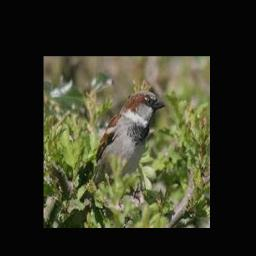Sparrow: (90, 90, 166, 186)
